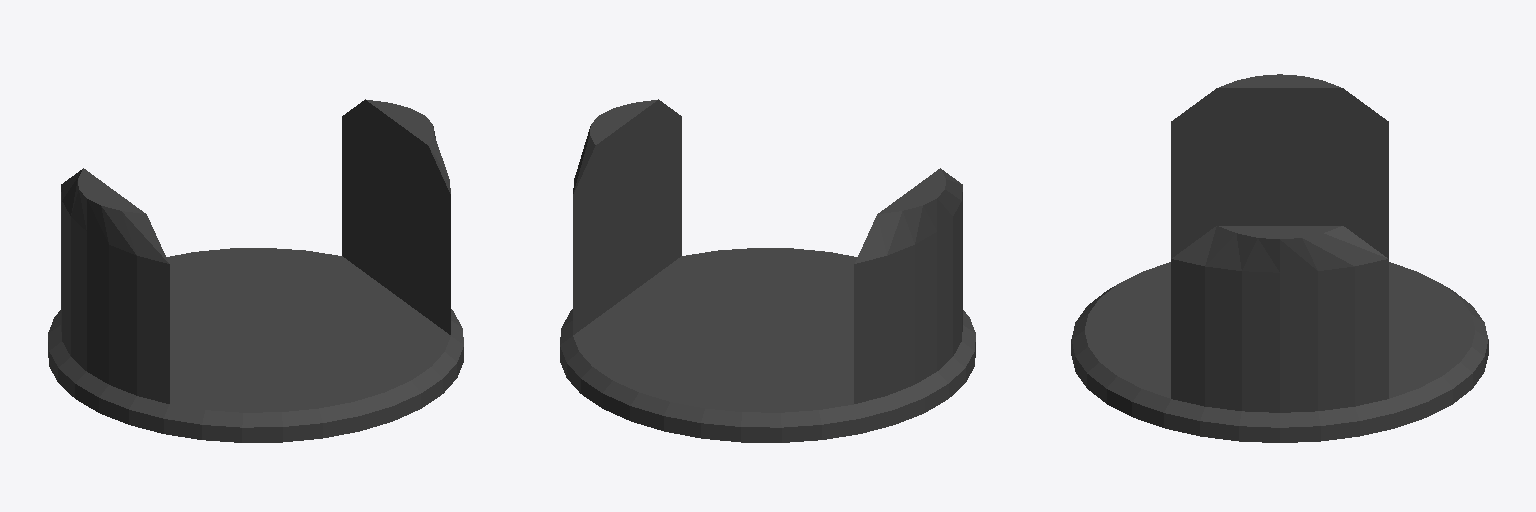
The model's file is tempTurretBody.obj.
3 views of the same model, side by side, from view 1: azimuth 30°, elevation 25°; view 2: azimuth 150°, elevation 25°; view 3: azimuth 270°, elevation 25° (orthographic).
Visible parts, largest first — view 1: Cylinder.003; view 2: Cylinder.003; view 3: Cylinder.003.
Part boxes in pixels (bbox=[...]): Cylinder.003: bbox=[48, 99, 463, 442]; Cylinder.003: bbox=[560, 99, 975, 442]; Cylinder.003: bbox=[1071, 74, 1488, 442].
Size of the model in its own units: 1.38 by 0.7233 by 1.38.